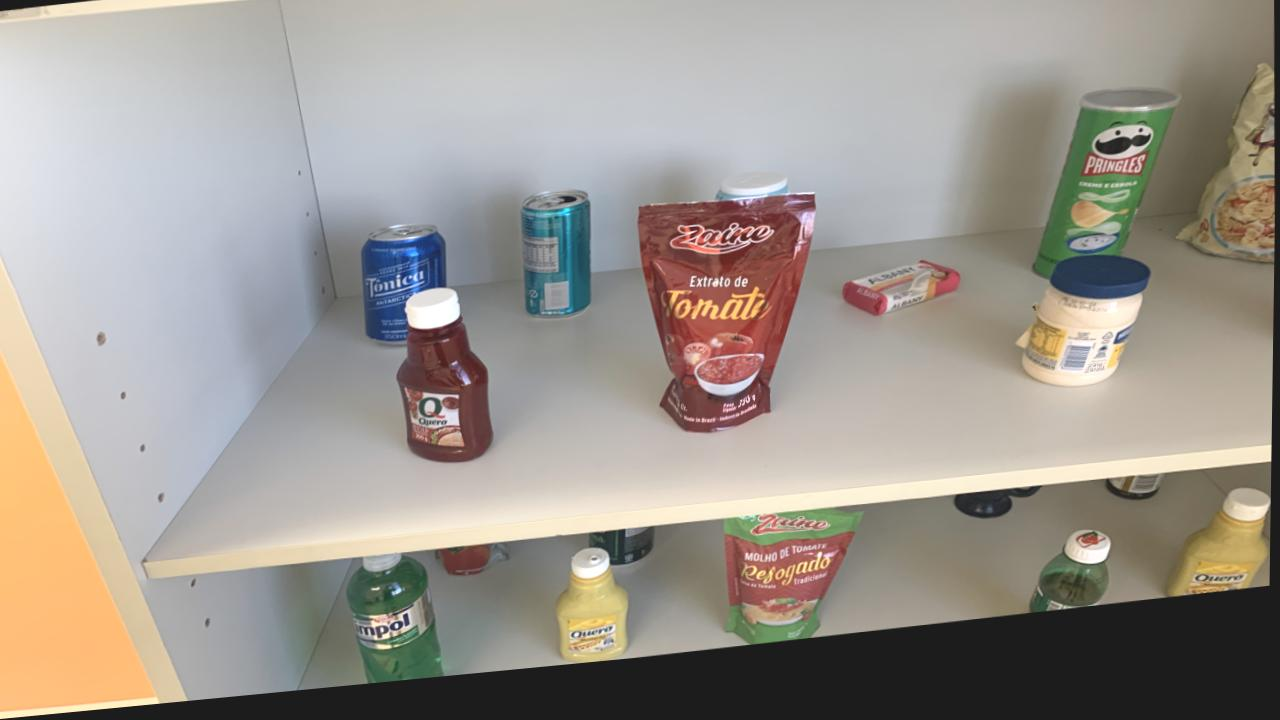Cleaner-Cleanup_Items: (718, 187, 788, 215)
Detergent-Cleanup_Items: (350, 562, 445, 691)
English_Sauce-Pantry_Items: (1107, 496, 1167, 524)
Flakes-Snacks: (1178, 90, 1276, 288)
Guarana-Drinks: (1033, 552, 1113, 634)
Guarana_Can-Drinks: (590, 540, 657, 578)
Ketchup-Pantry_Items: (399, 296, 494, 472)
Mayonnaise-Pantry_Items: (1021, 277, 1151, 409)
Mustard-Pantry_Items: (1168, 513, 1272, 621), (558, 559, 630, 675)
Pringles-Snacks: (1033, 110, 1183, 298)
Soap-Cleanup_Items: (843, 279, 961, 334)
Tea-Drinks: (523, 201, 591, 330)
Tomato_Sauce-Pantry_Items: (640, 209, 816, 447), (727, 525, 865, 658), (440, 553, 512, 585)
Tonic-Drinks: (363, 232, 448, 353)
